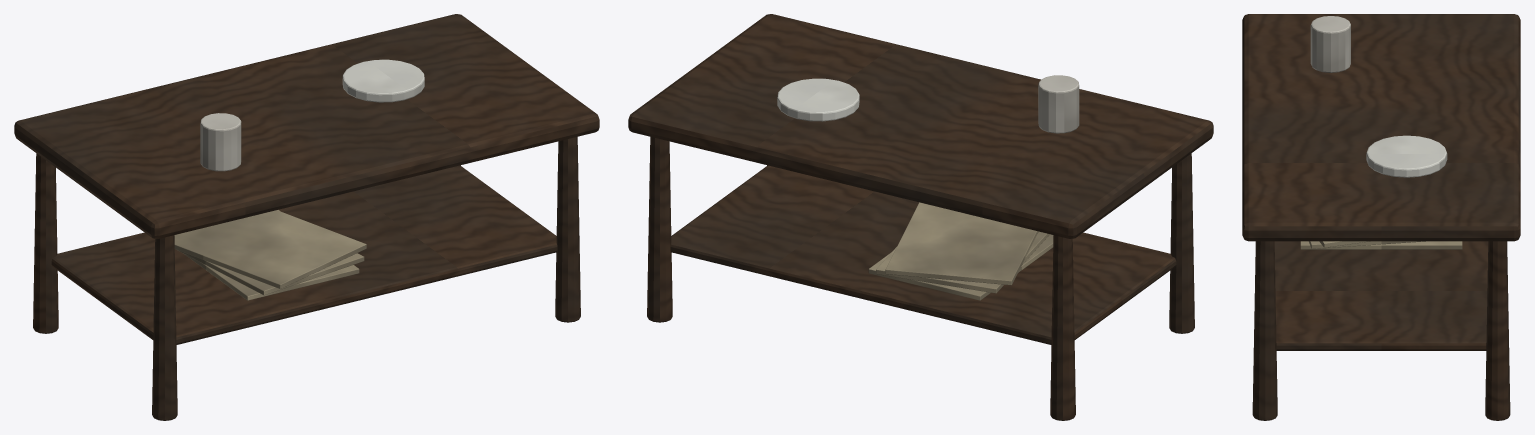
File: L03_coffee_table.glb
3 views of the same model, side by side, from view 1: azimuth 30°, elevation 25°; view 2: azimuth 150°, elevation 25°; view 3: azimuth 270°, elevation 25° (orthographic). The views are drawn at different scales.
Visible parts, largest first — view 1: L03_coffee_table; view 2: L03_coffee_table; view 3: L03_coffee_table.
Part boxes in pixels (x1,y1,x2,y2): L03_coffee_table: (14,14,599,420); L03_coffee_table: (628,14,1213,420); L03_coffee_table: (1242,14,1520,420).
Size of the model in its own units: 1 by 0.53 by 0.55.
4 materials, 4 textured.
